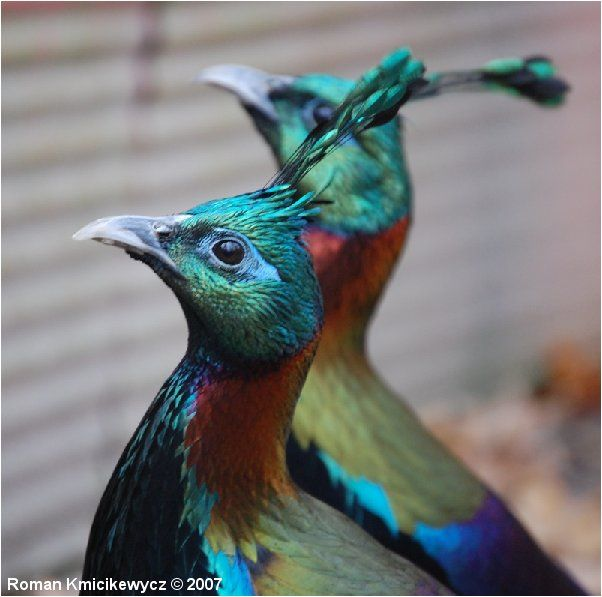bird: (57, 162, 492, 597)
